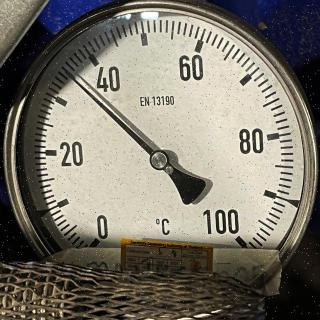gauge: (0, 0, 320, 298), (226, 221, 252, 251), (149, 149, 171, 171), (85, 234, 104, 254), (64, 68, 71, 77)
